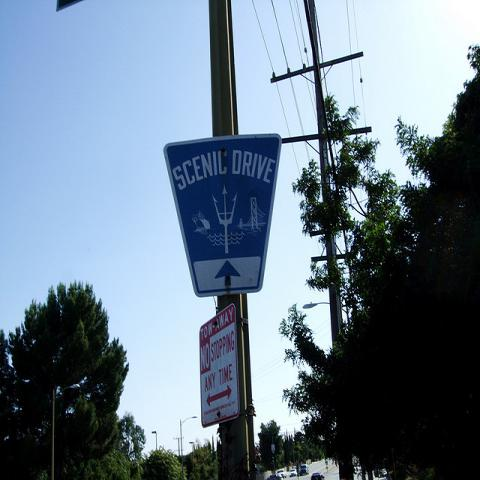car: (275, 468, 288, 479), (299, 463, 309, 476), (311, 472, 324, 480), (289, 468, 299, 477), (266, 474, 282, 479)
